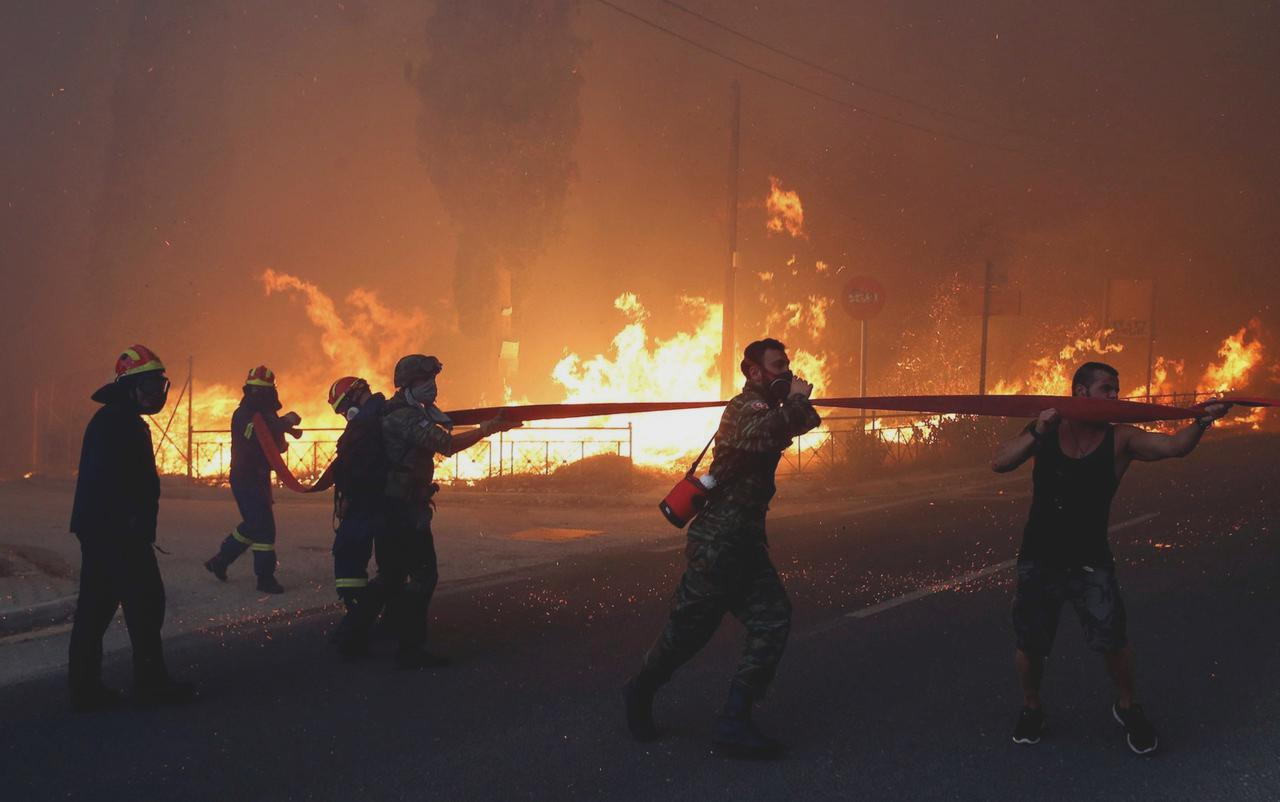Fire: (490, 166, 853, 508), (137, 272, 487, 497), (864, 304, 1275, 462)
